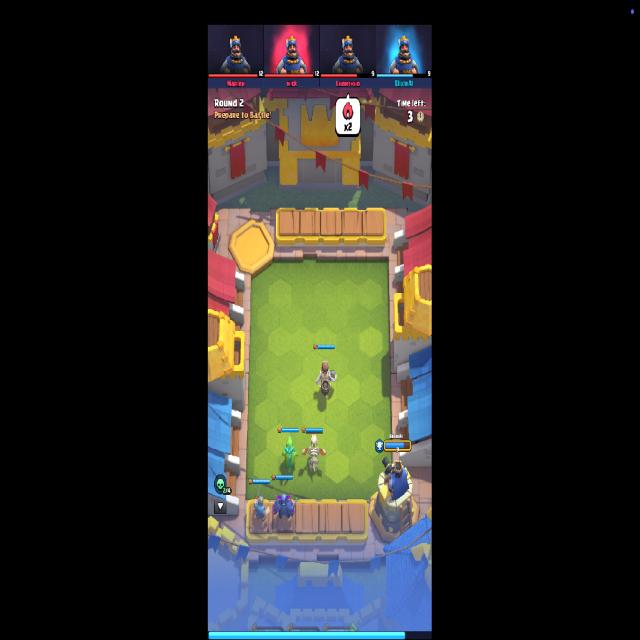baby_dragon: (282, 433, 298, 471)
giant_skeleton: (316, 362, 336, 398)
knight: (252, 484, 270, 522)
pekka: (272, 493, 299, 519)
skeleton_dragon: (304, 432, 328, 473)
